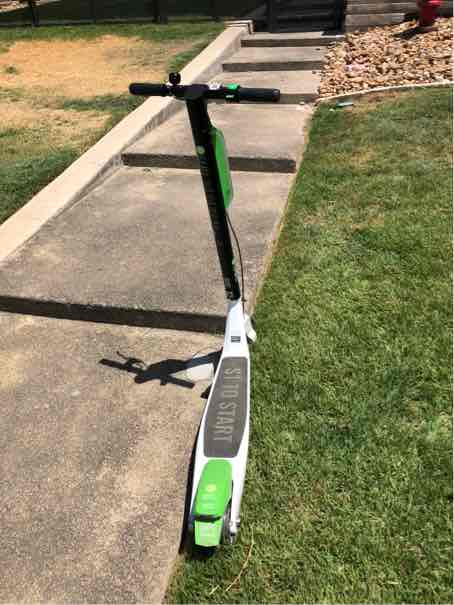scooter: (127, 76, 290, 562)
